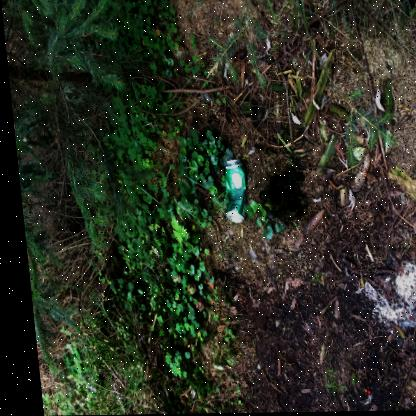Metal: (220, 160, 241, 224)
